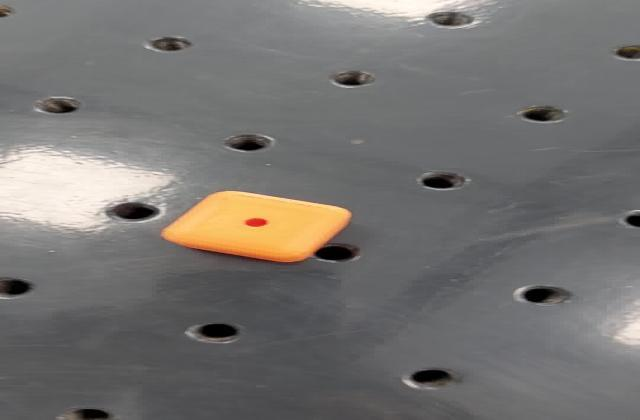cube: (156, 187, 364, 264)
